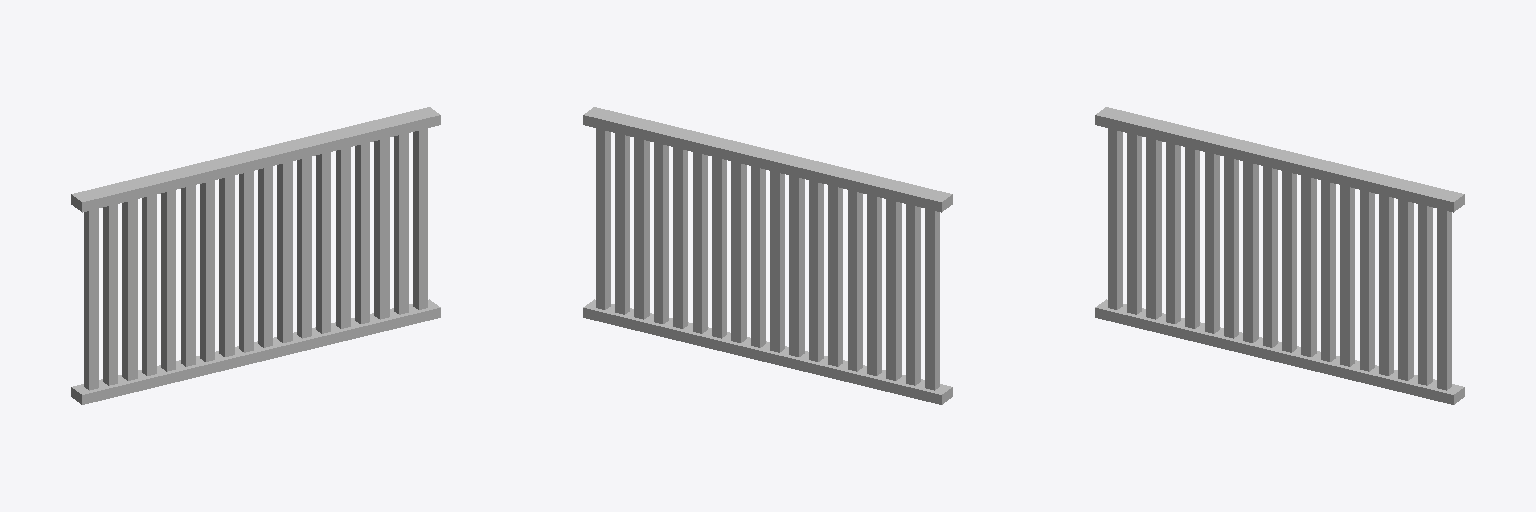
The model's file is Fence.obj.
3 renders of one model, left to right at view 1: azimuth 30°, elevation 25°; view 2: azimuth 150°, elevation 25°; view 3: azimuth 330°, elevation 25°, orthographic.
Visible parts, largest first — view 1: object 1; view 2: object 1; view 3: object 1.
Boxes of the visible parts, <box> form: object 1: <box>71,107,440,404</box>; object 1: <box>583,107,952,404</box>; object 1: <box>1095,107,1464,404</box>.
Size of the model in its own units: 7.4 by 4 by 0.4.